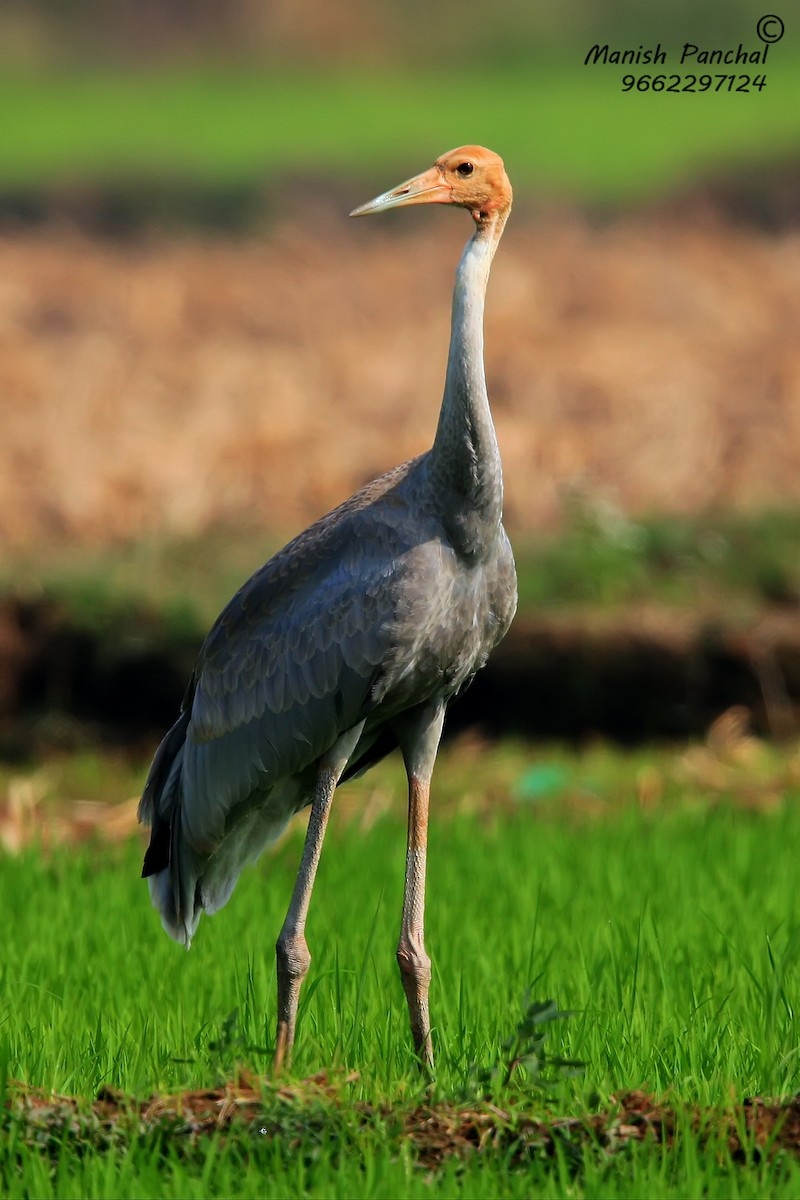crane: (150, 132, 542, 1076)
